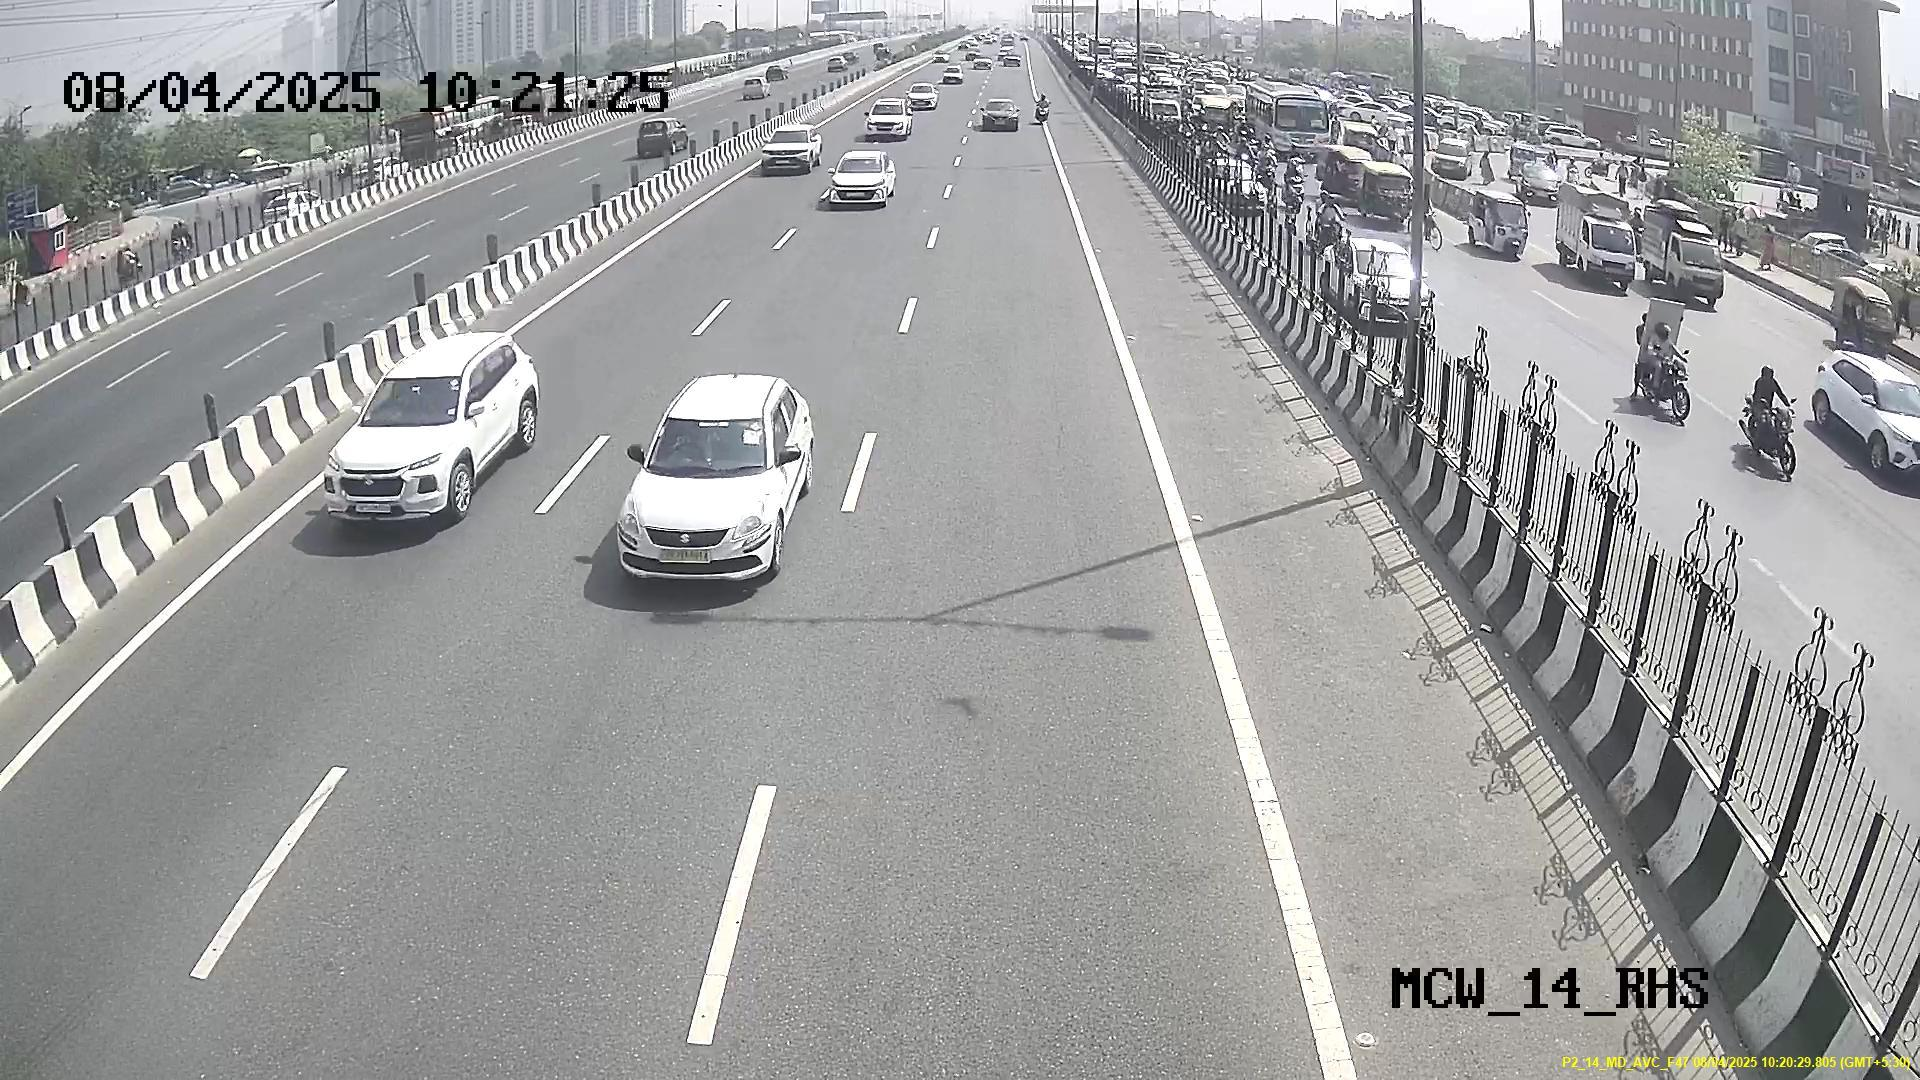car: (615, 402, 802, 582), (323, 353, 493, 526)
